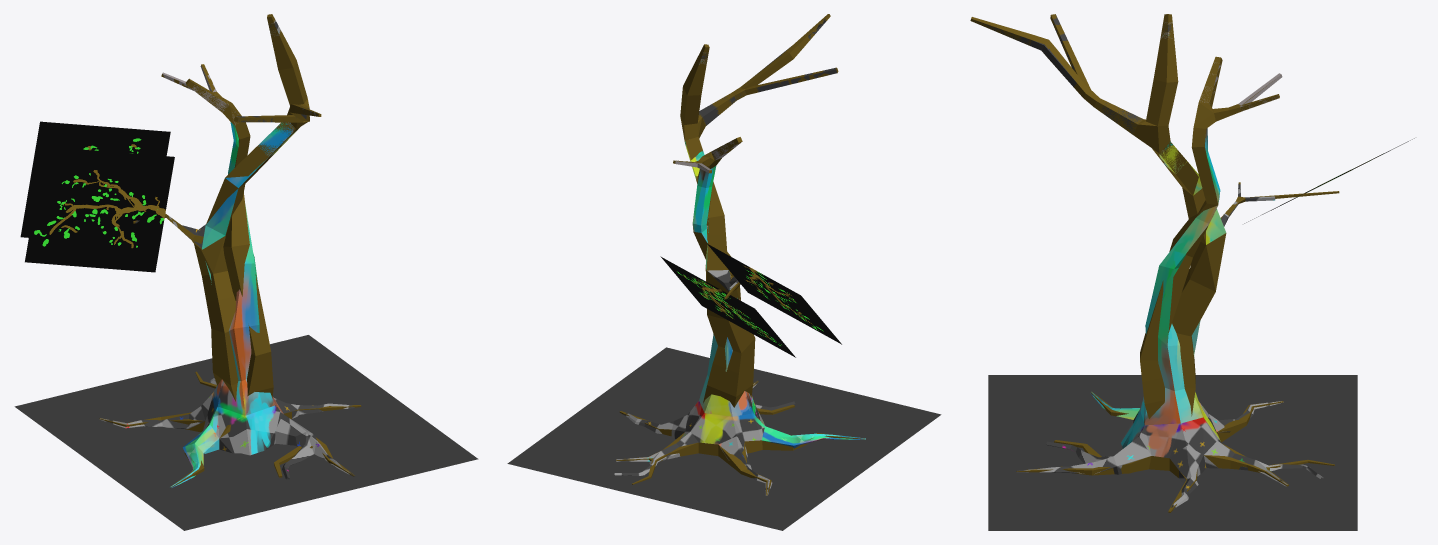
File: tre.fbx
The picture shows the model from 3 angles, left to right: view 1: azimuth 30°, elevation 25°; view 2: azimuth 150°, elevation 25°; view 3: azimuth 270°, elevation 25°; orthographic projection. The views are drawn at different scales.
Parts seen in each view (by area): view 1: Plane.001, Plane.003, Plane.004, Plane, Plane.002; view 2: Plane.001, Plane.004, Plane, Plane.003, Plane.002; view 3: Plane.001, Plane.004, Plane.
Boxes of the visible parts, box(x1,y1,x2,y2) form: Plane.001: box(14, 335, 478, 530); Plane.003: box(25, 146, 174, 272); Plane.004: box(99, 14, 361, 487); Plane: box(99, 20, 355, 488); Plane.002: box(20, 121, 170, 237); Plane.001: box(507, 347, 941, 530); Plane.004: box(616, 14, 865, 495); Plane: box(614, 19, 865, 495); Plane.003: box(707, 243, 841, 344); Plane.002: box(660, 256, 795, 357); Plane.001: box(988, 375, 1357, 530); Plane.004: box(970, 14, 1339, 512); Plane: box(978, 15, 1323, 509).
Bounding box in the file's own units: 610 × 782 × 686.
